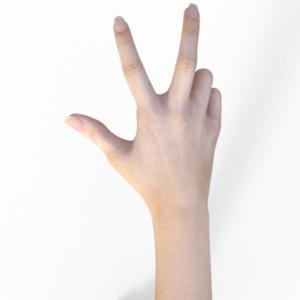scissors: (66, 4, 221, 300)
